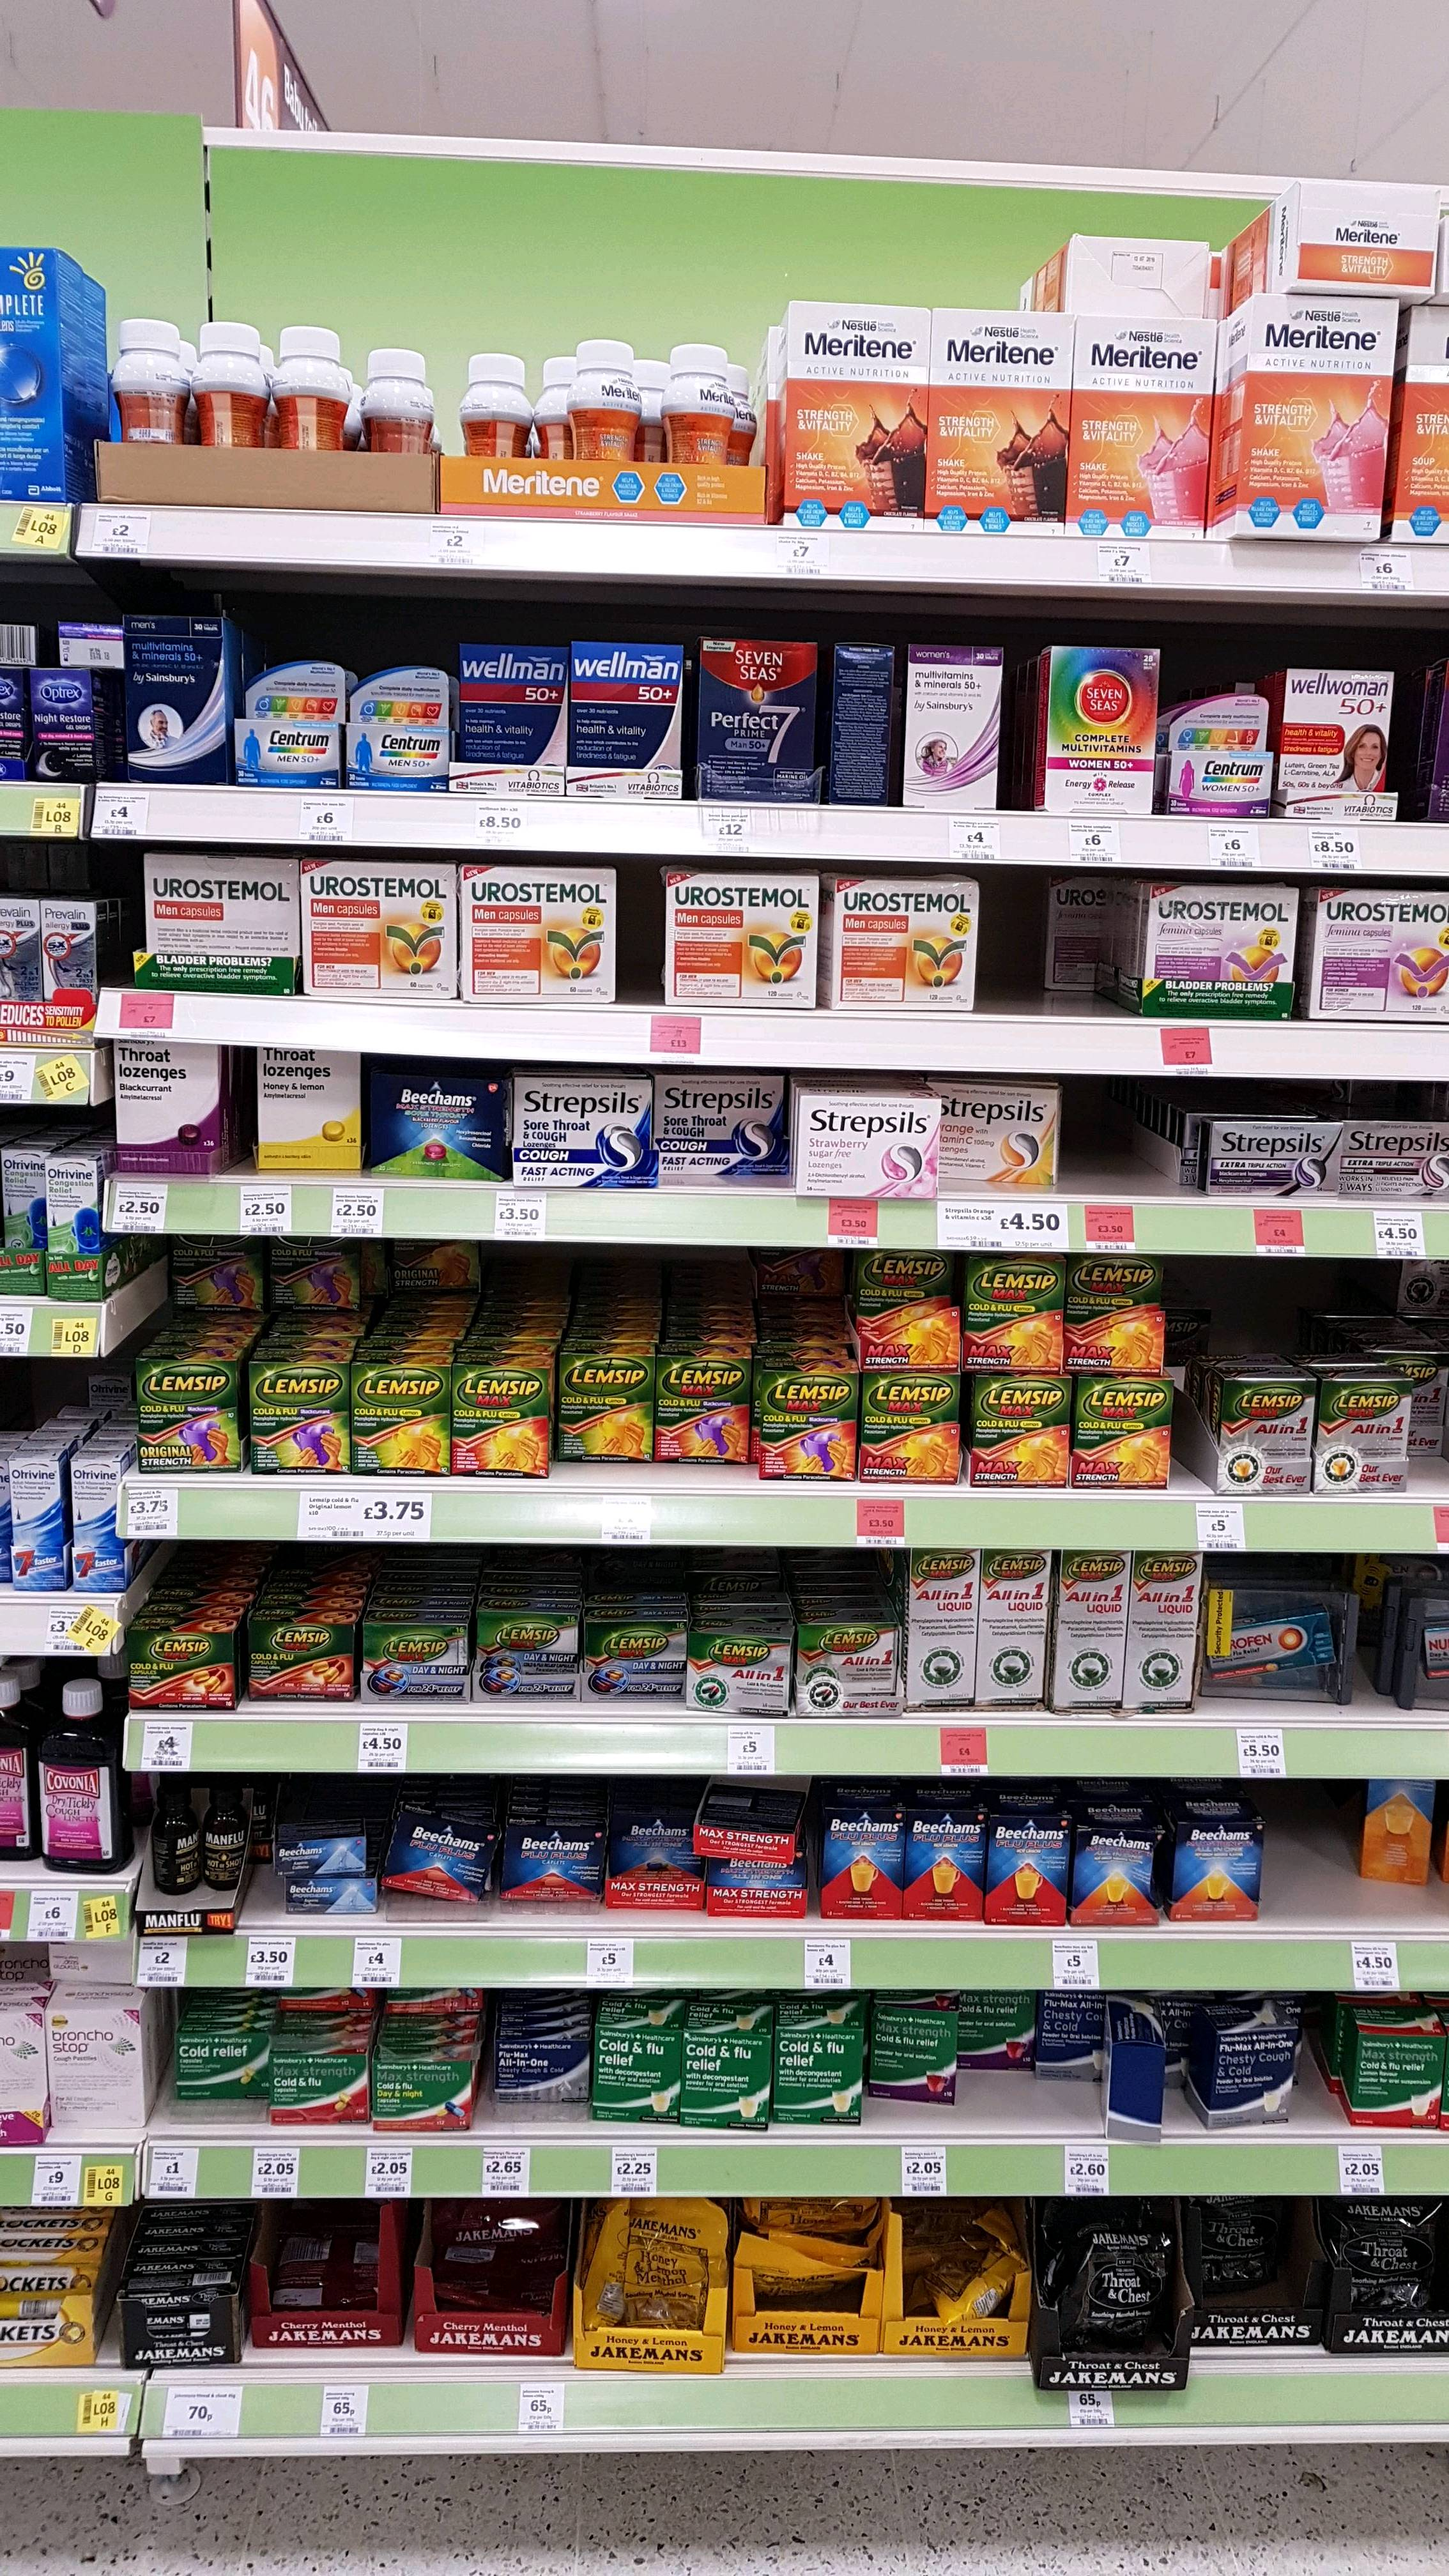Misplacement: (553, 1256, 755, 1489)
Out-of-stock: (1061, 1082, 1176, 1195)
